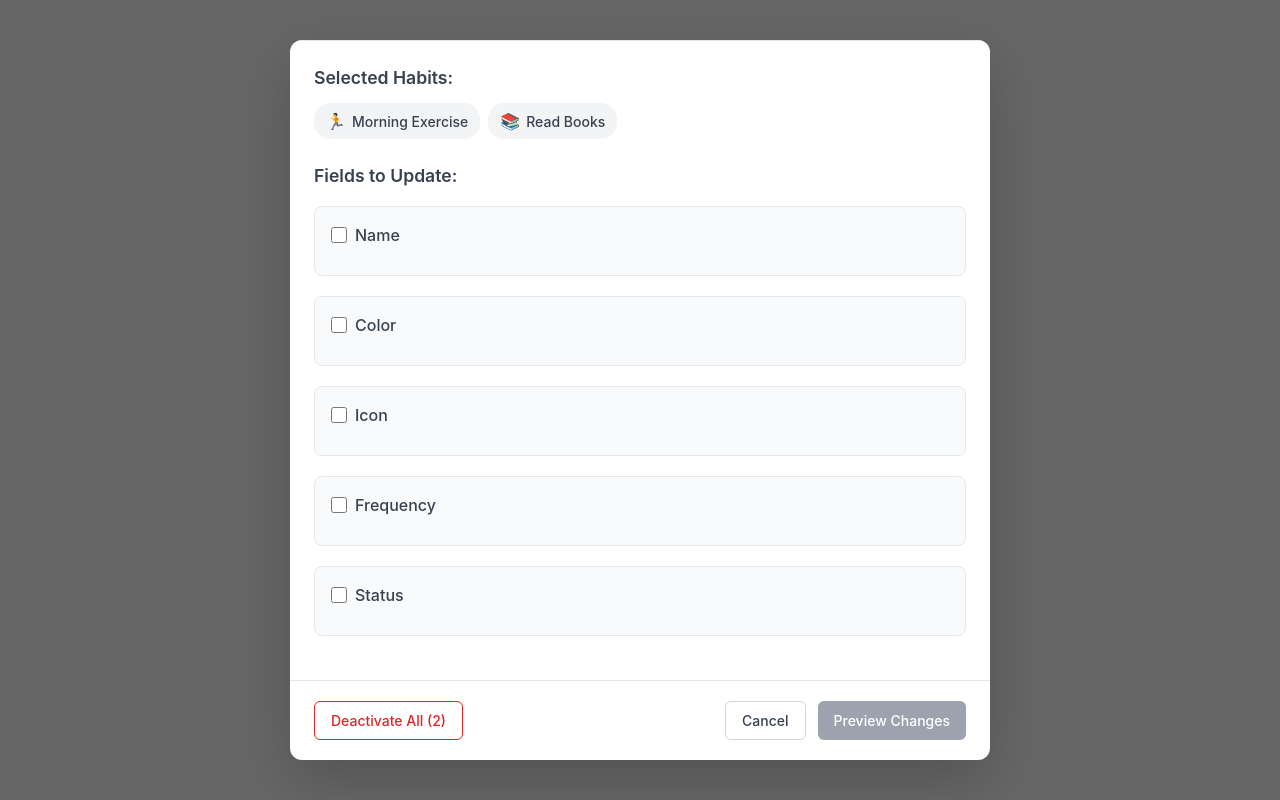
Test case: BulkEditModal › opens deactivate dialog when deactivate button is clicked
(page scrolled)
Click the button "Deactivate All (2)" at (388, 720), box [314,701,463,740]
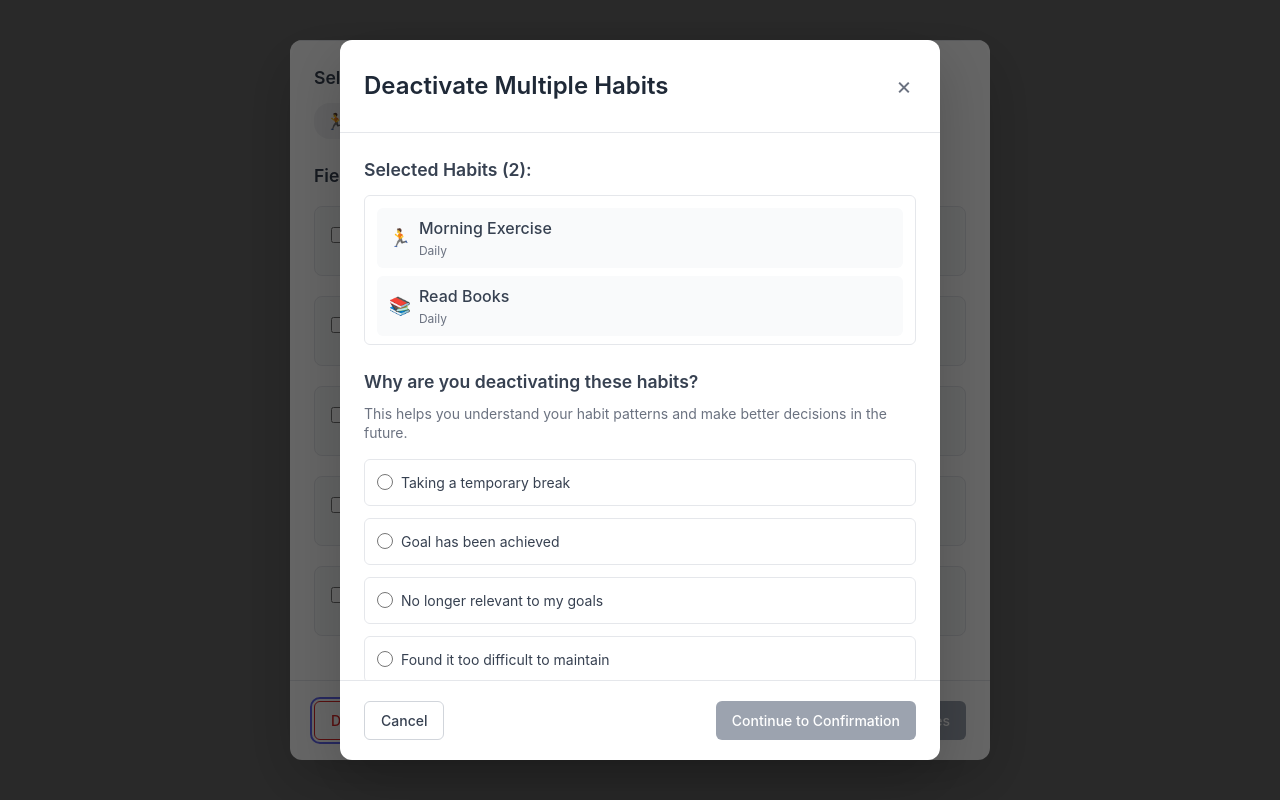
expect the heading "Deactivate Multiple Habits" is shown: met, box [364,68,668,104]
